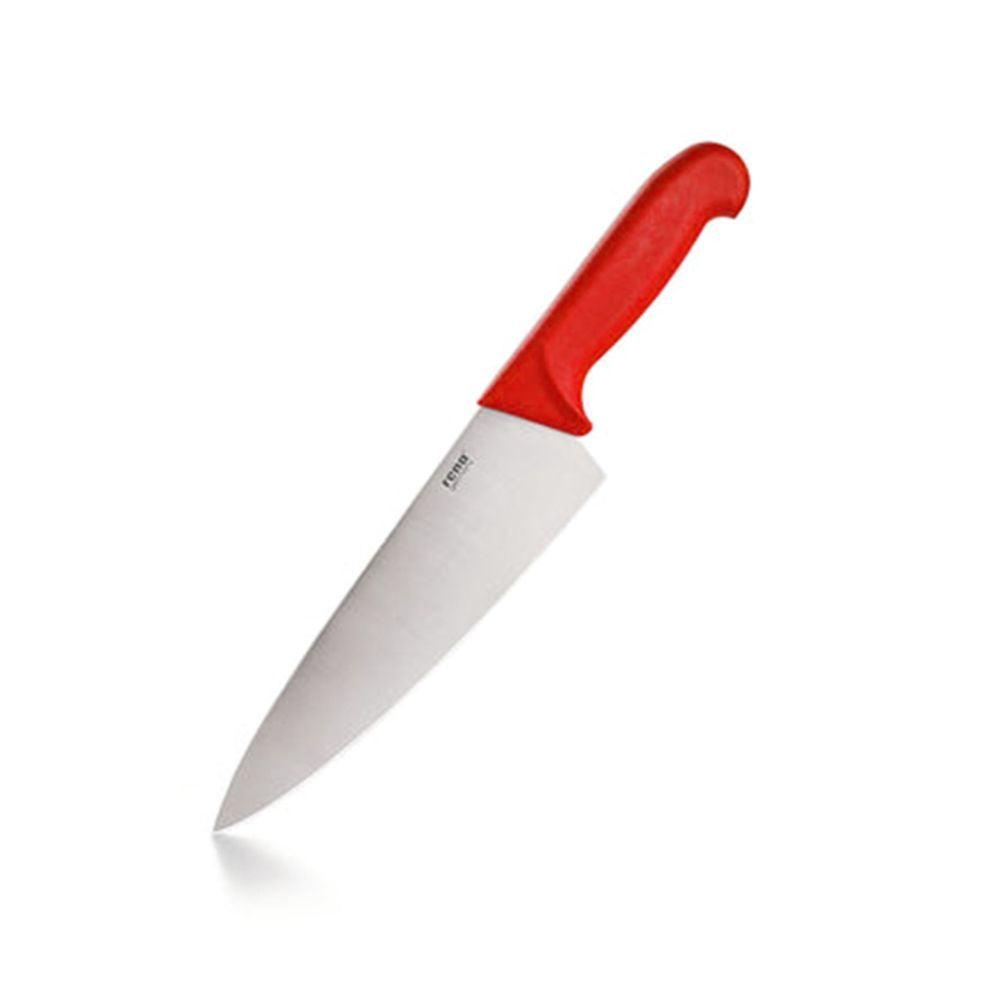Knife: (211, 138, 751, 833)
